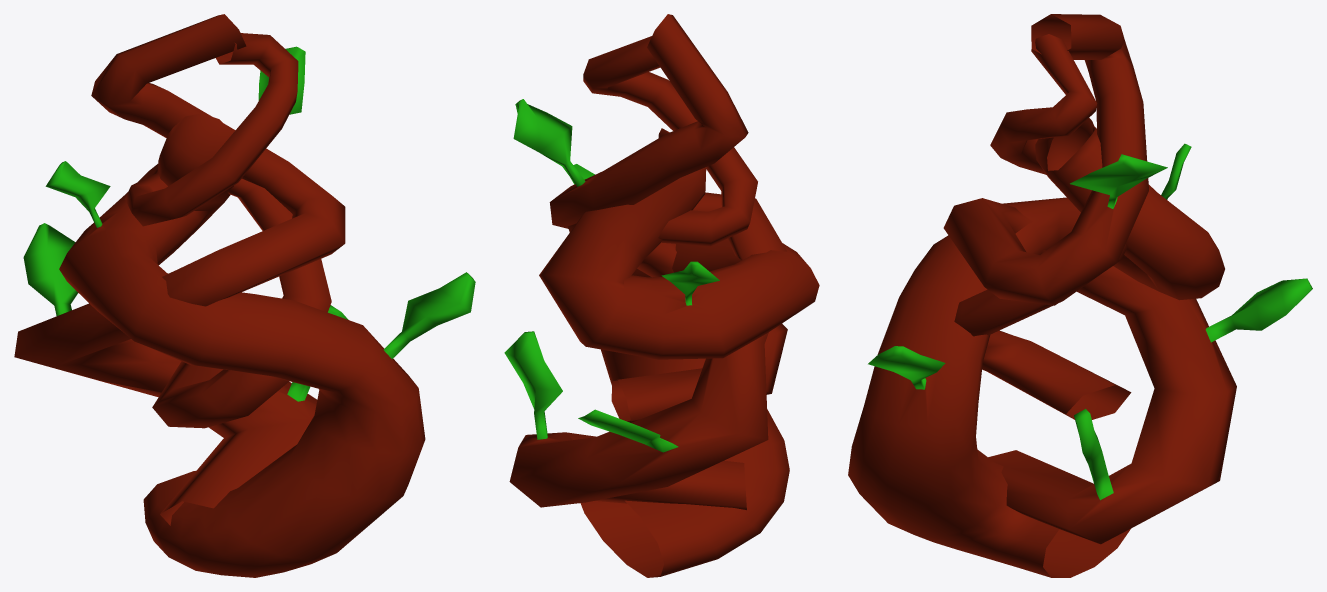
File: RacineQuiSortDuSol.fbx
3 views of the same model, side by side, from view 1: azimuth 30°, elevation 25°; view 2: azimuth 150°, elevation 25°; view 3: azimuth 270°, elevation 25° (orthographic).
Visible parts, largest first — view 1: RacineQuiSortDuSol; view 2: RacineQuiSortDuSol; view 3: RacineQuiSortDuSol.
Boxes of the visible parts, x1,y1,x2,y2 form: RacineQuiSortDuSol: (14,14,475,577); RacineQuiSortDuSol: (504,14,819,577); RacineQuiSortDuSol: (848,14,1312,577).
Size of the model in its own units: 0.7621 by 1.19 by 0.9197.
